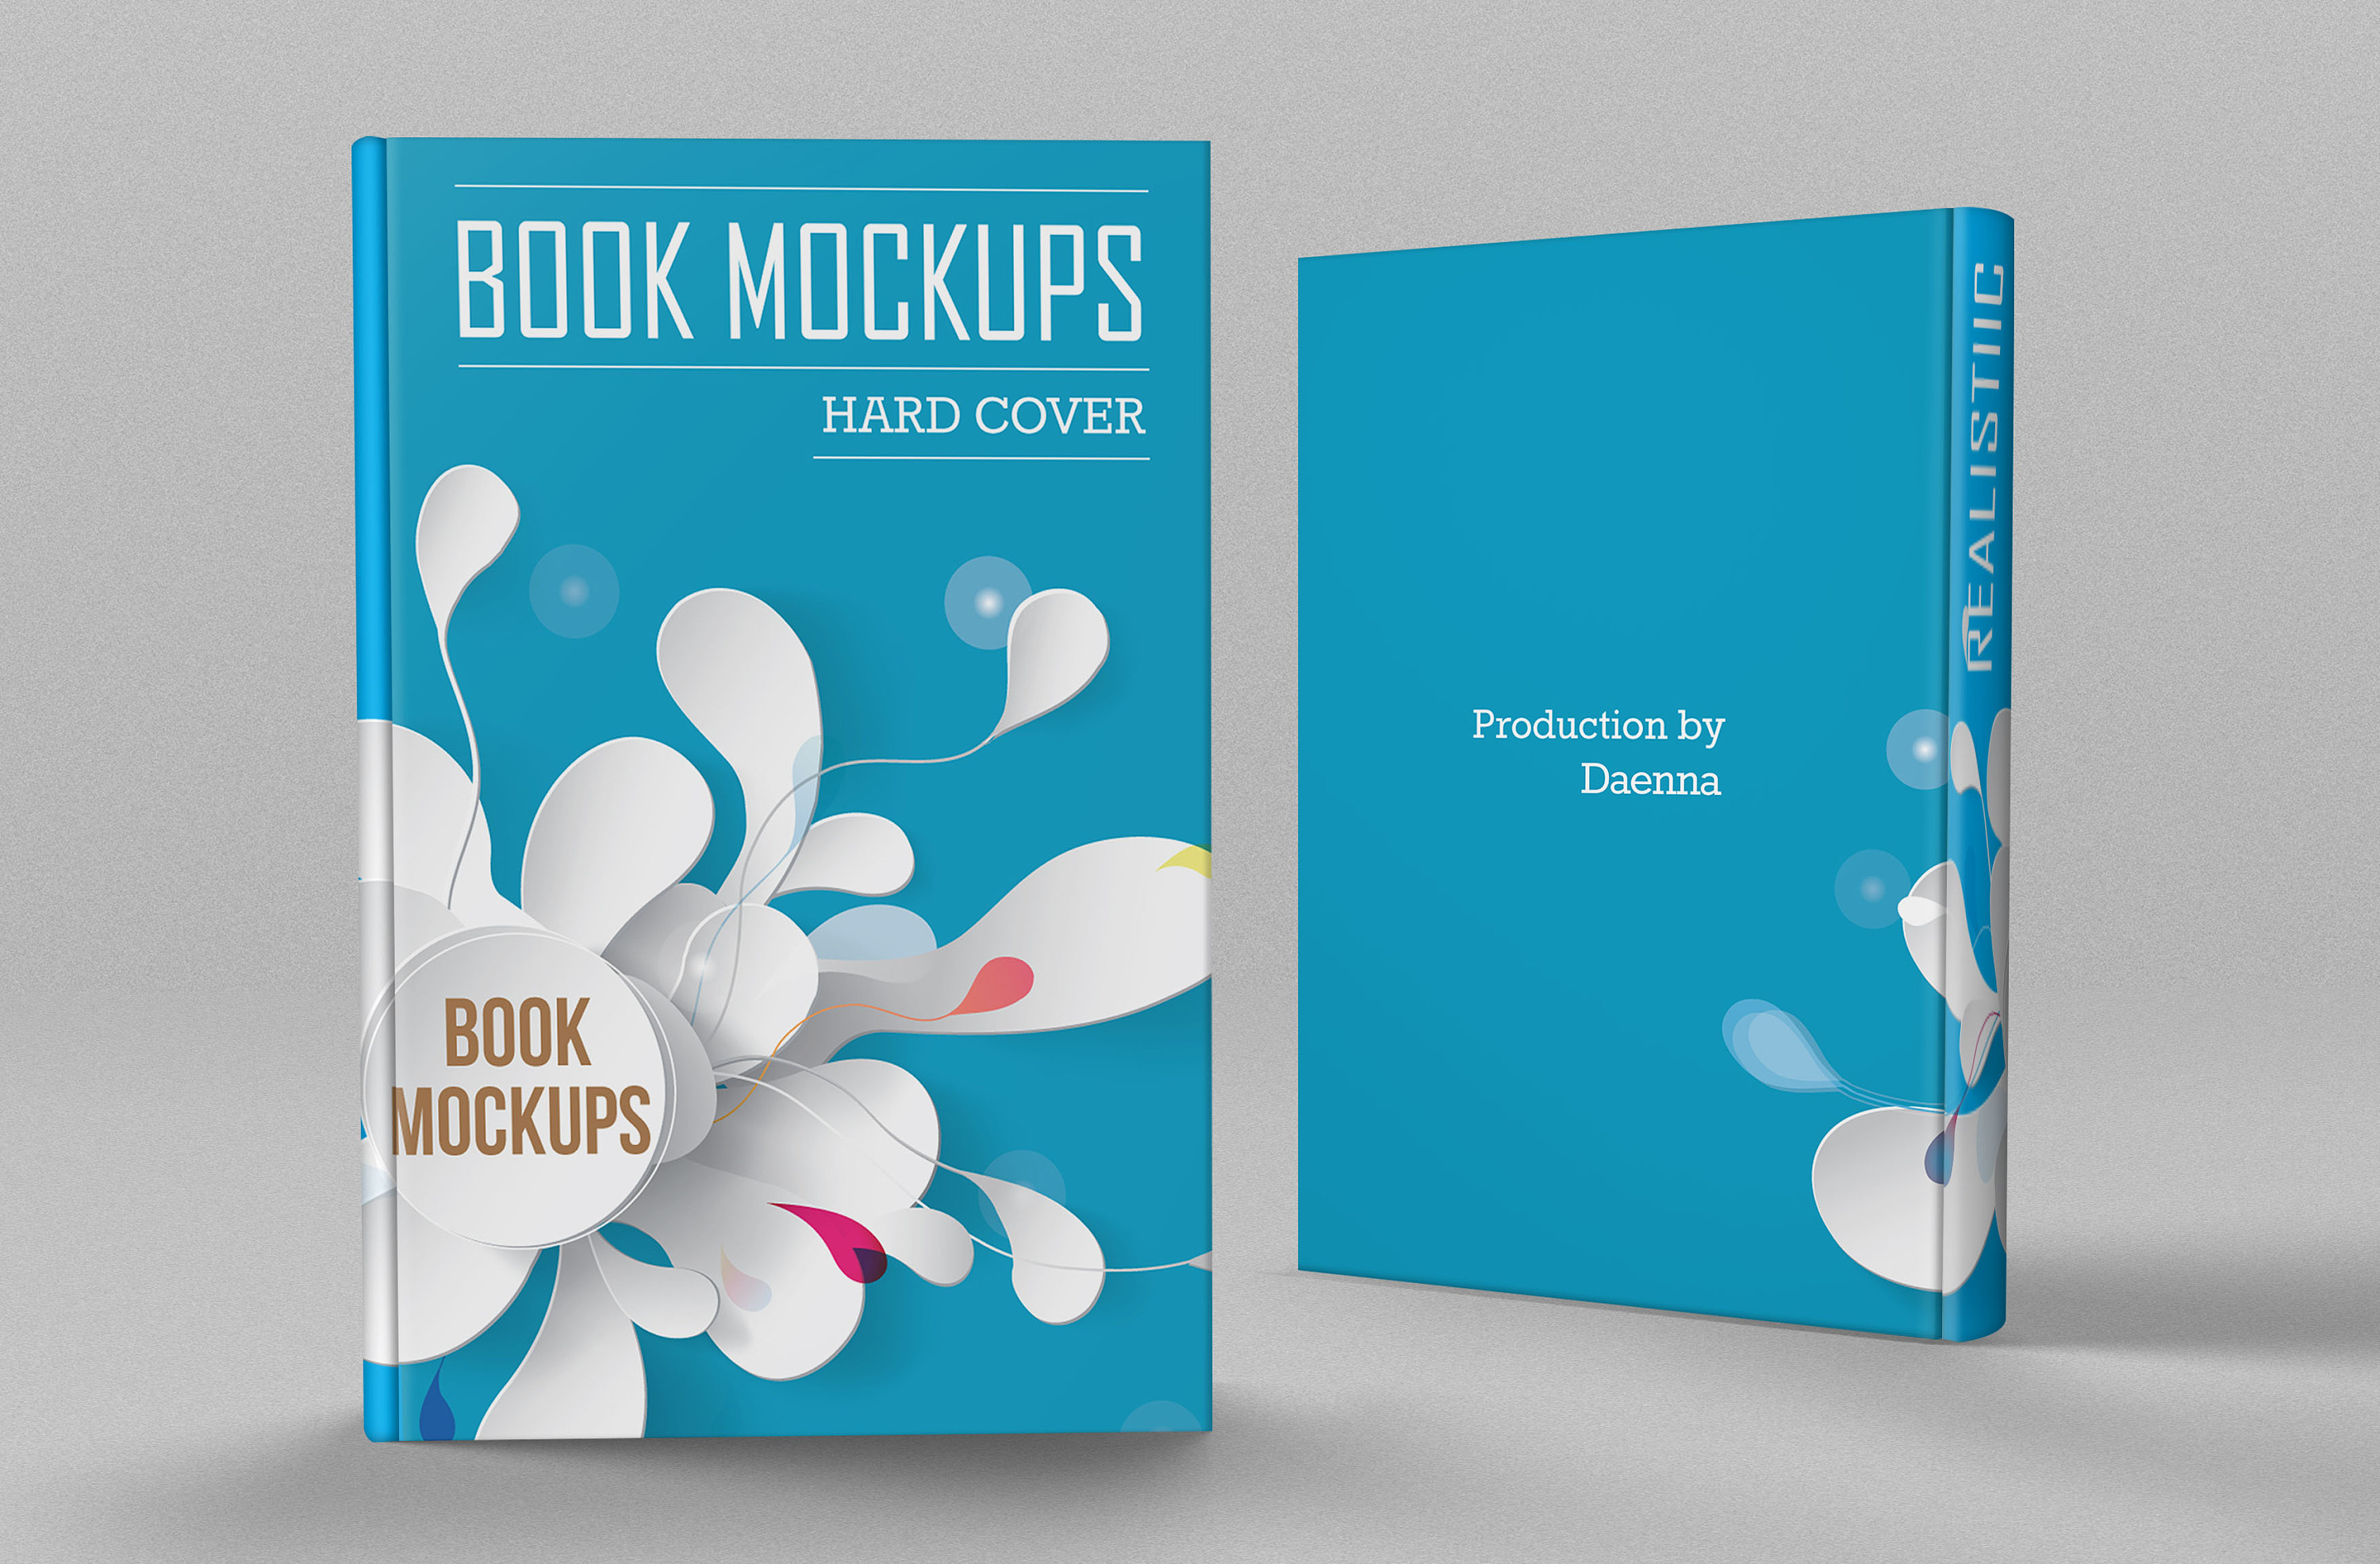book: (342, 126, 1207, 1451), (1289, 190, 2026, 1370)
